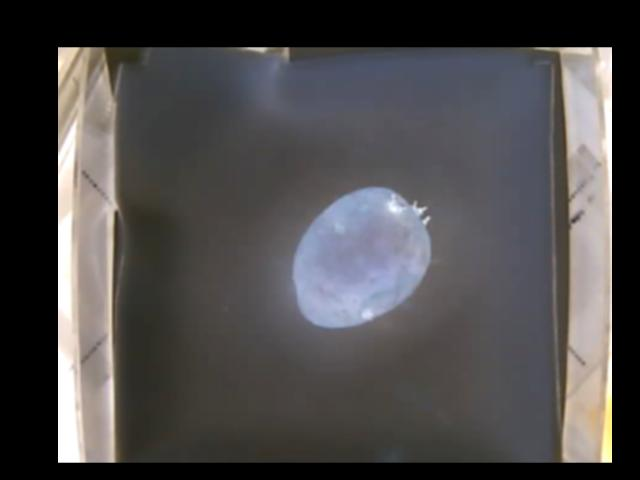Potato: (294, 185, 431, 325)
